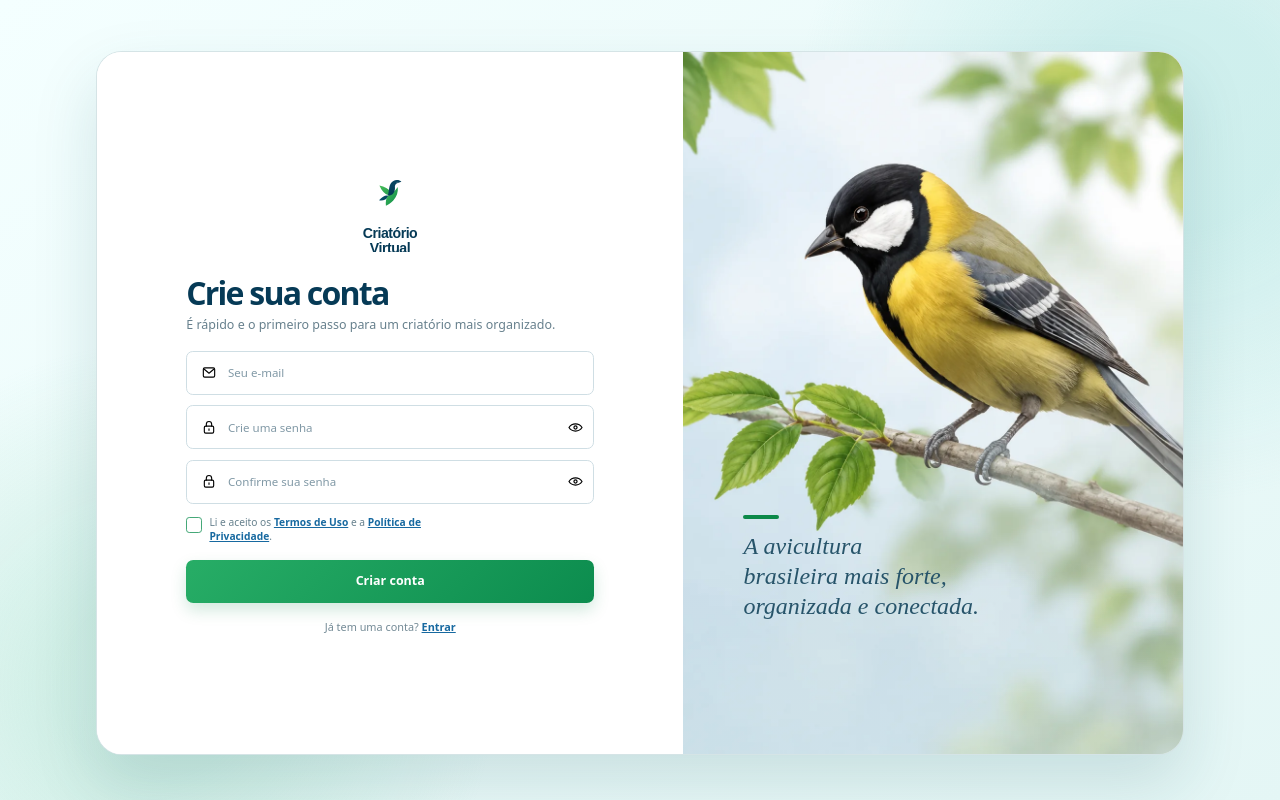
RegistrationPage › keeps the form available and maps API field errors
Type "owner@example.com" into the field labelled "e-mail".
click(390, 373); type("owner@example.com")  # box left=186, top=351, right=594, bottom=395
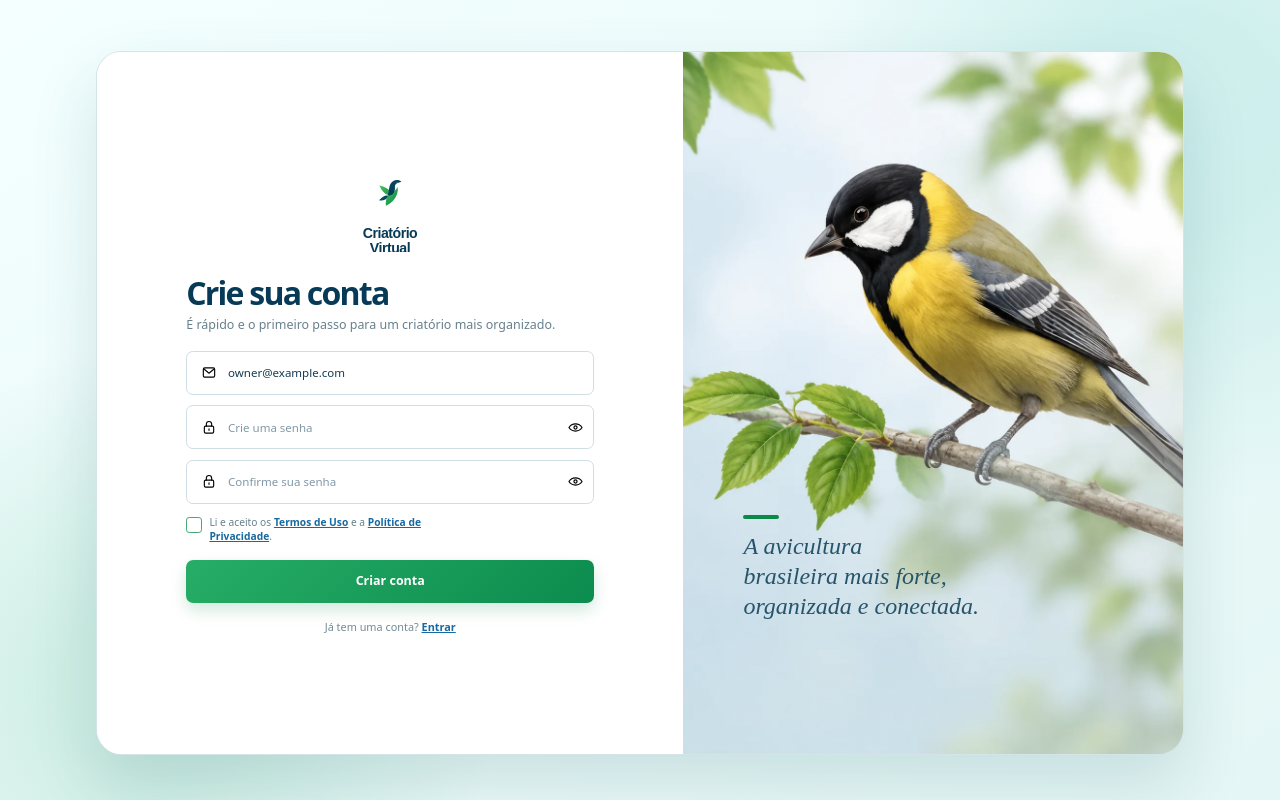
Type "StrongPassword!123" into the password field labelled "senha".
click(390, 427); type("StrongPassword!123")  # box left=186, top=405, right=594, bottom=449
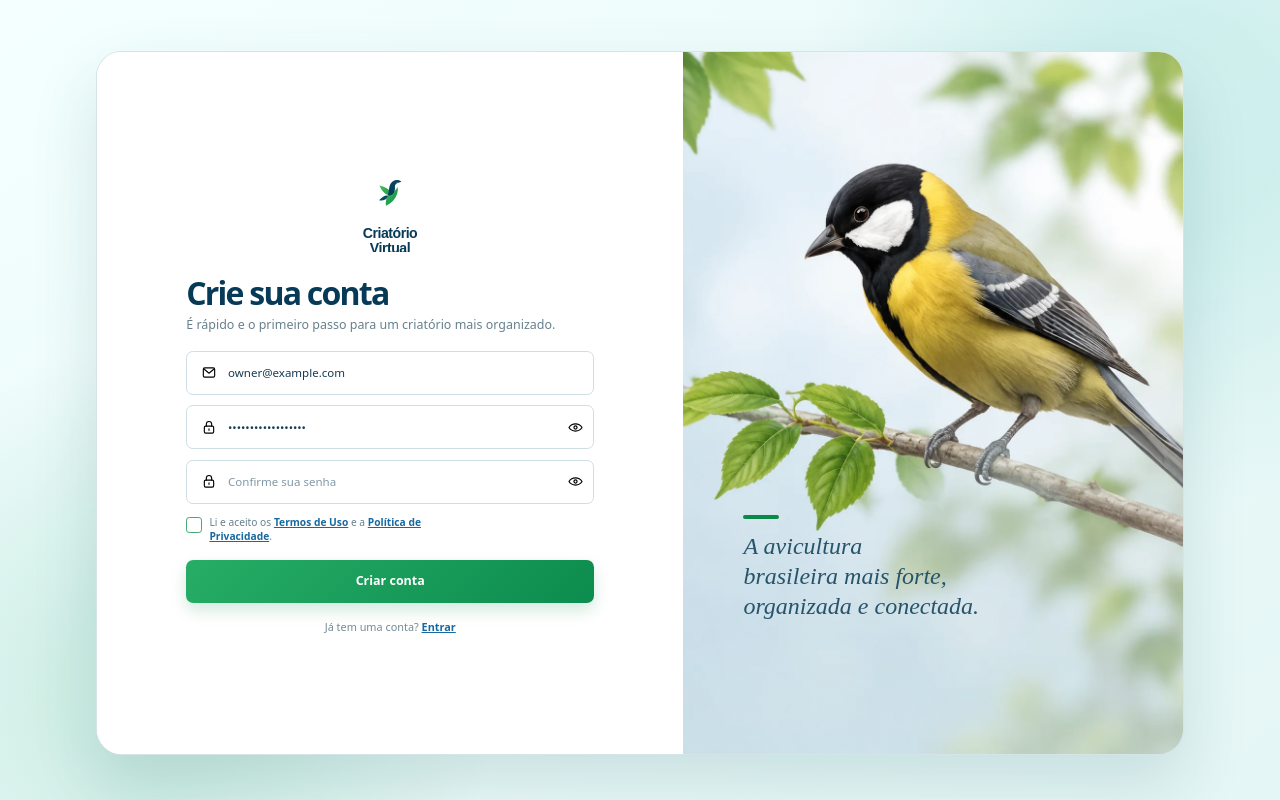
Type "StrongPassword!123" into the password field named "Confirmar senha".
click(390, 482); type("StrongPassword!123")  # box left=186, top=460, right=594, bottom=504
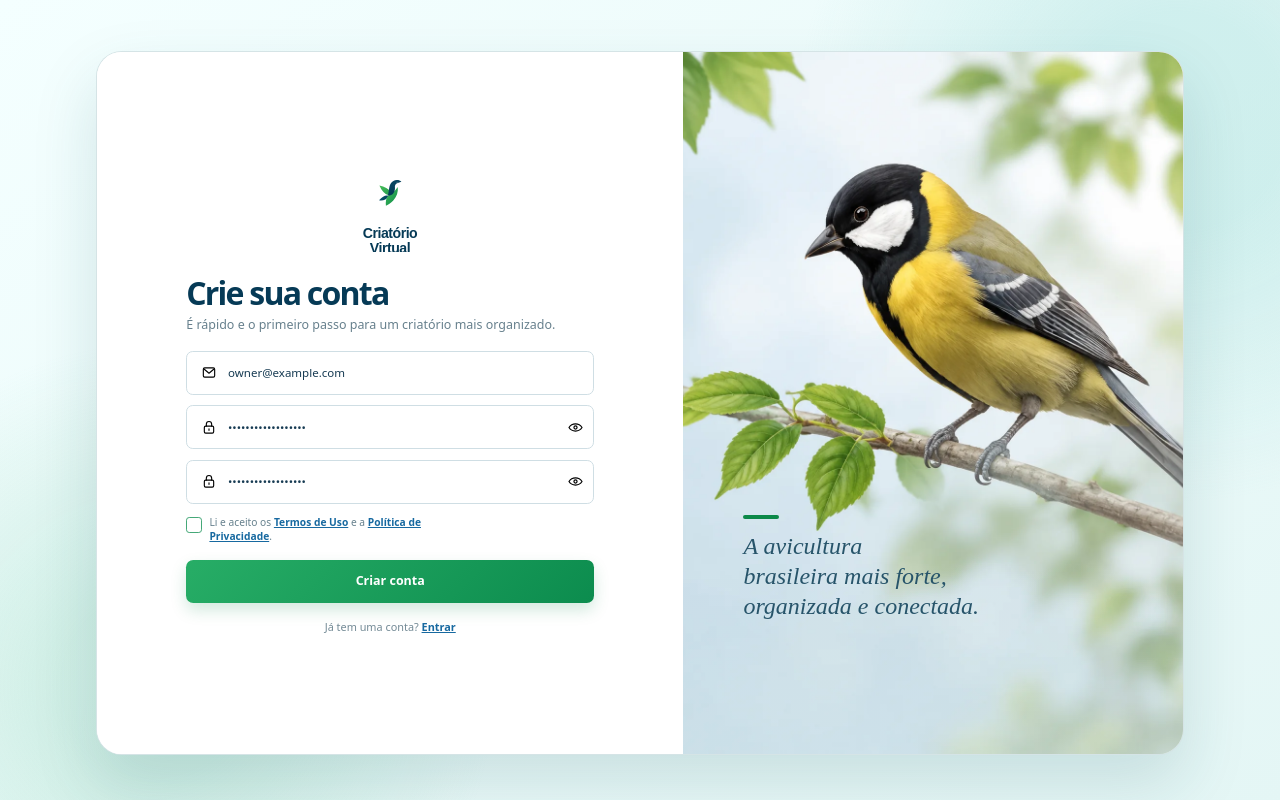
Click the checkbox.
click(194, 525)  # box left=186, top=517, right=202, bottom=533
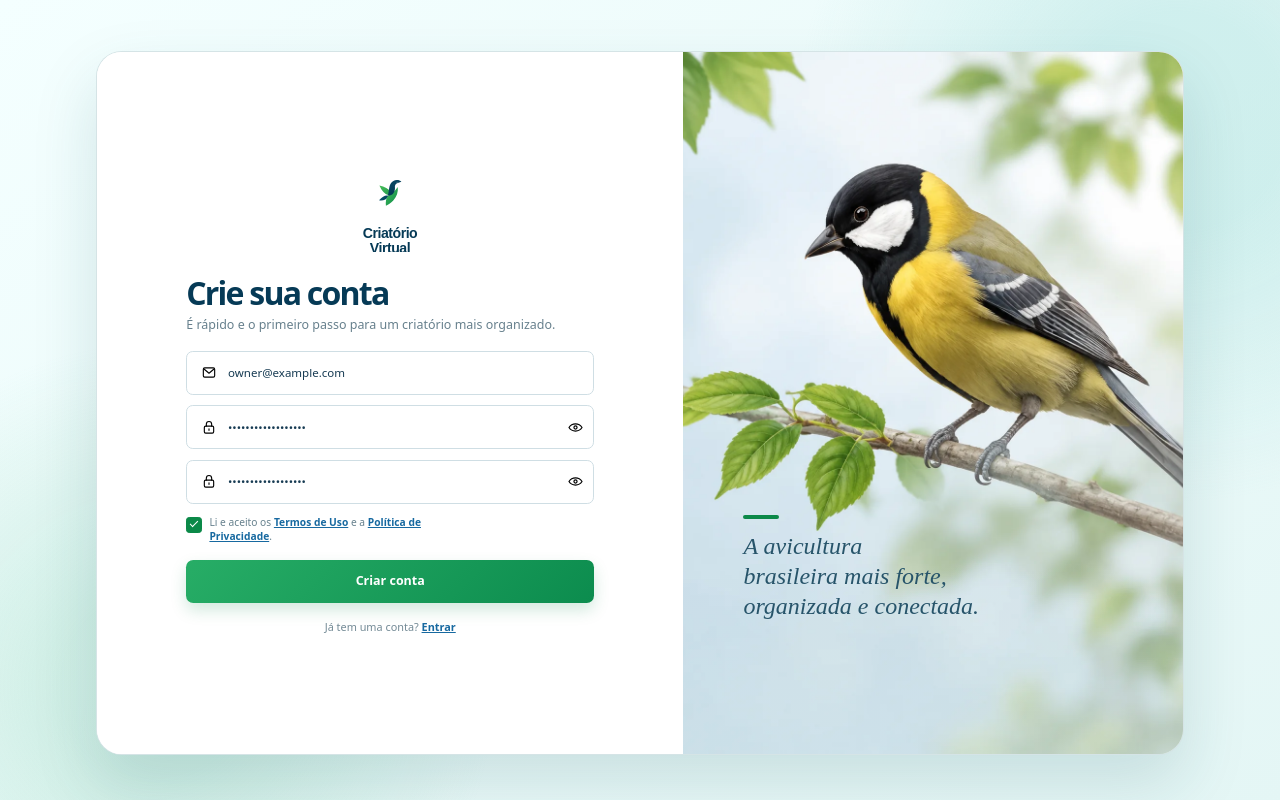
Click the button "Criar conta".
click(390, 582)  # box left=186, top=560, right=594, bottom=603
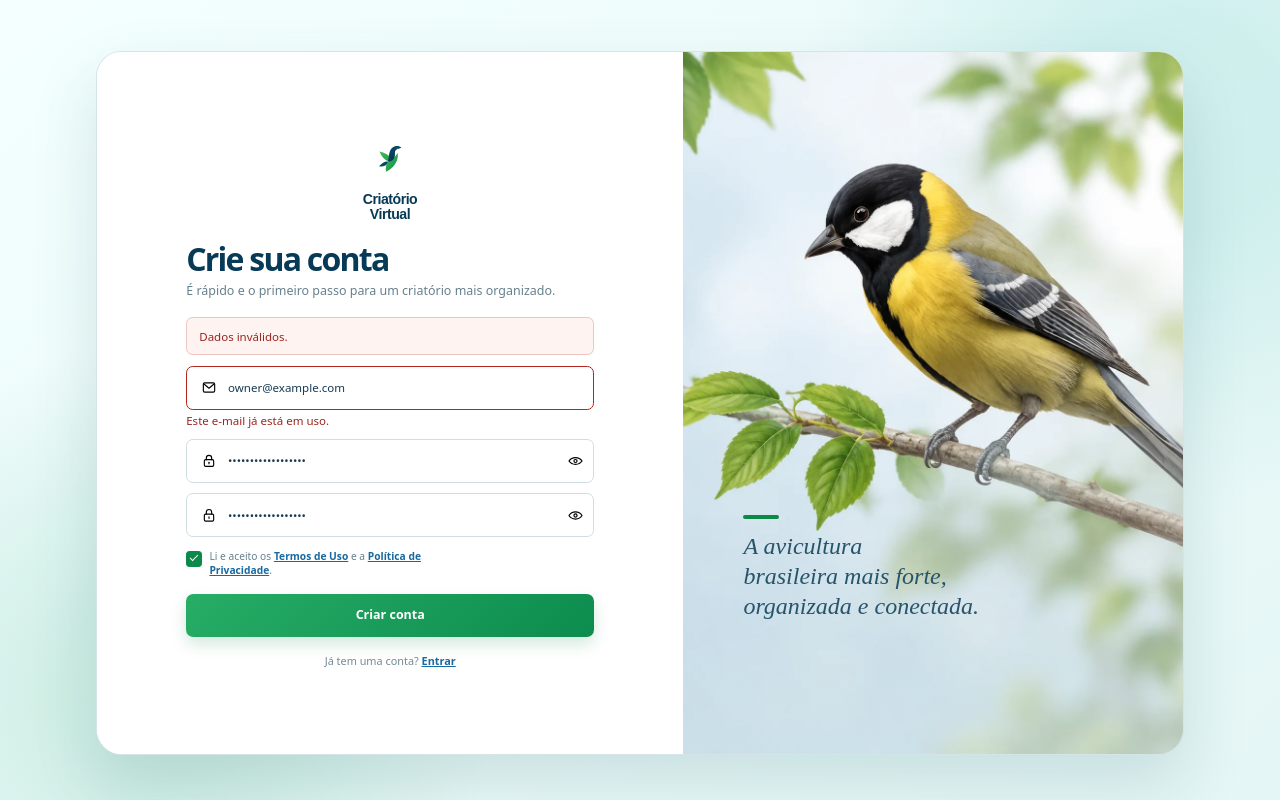
Expected: the button "Criar conta" is shown, left=186, top=594, right=594, bottom=637
Now the text "Este e-mail já está em uso." is shown, box left=186, top=413, right=329, bottom=428
